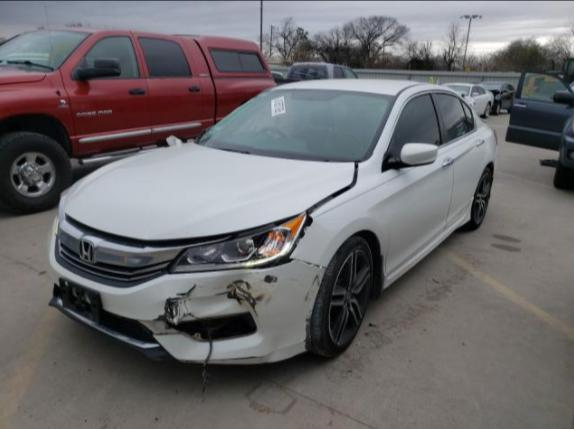Broken part: (47, 215, 329, 365), (62, 162, 362, 251), (169, 212, 307, 272), (287, 215, 315, 257)
Corrosion: (215, 279, 264, 317), (303, 273, 320, 302), (304, 311, 311, 353), (261, 274, 280, 284), (265, 293, 273, 305)
Missing part: (176, 311, 254, 339), (62, 280, 96, 320)
